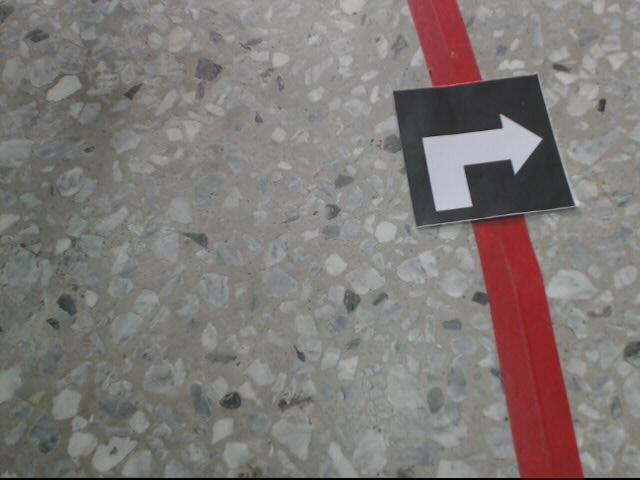right: (390, 74, 579, 227)
